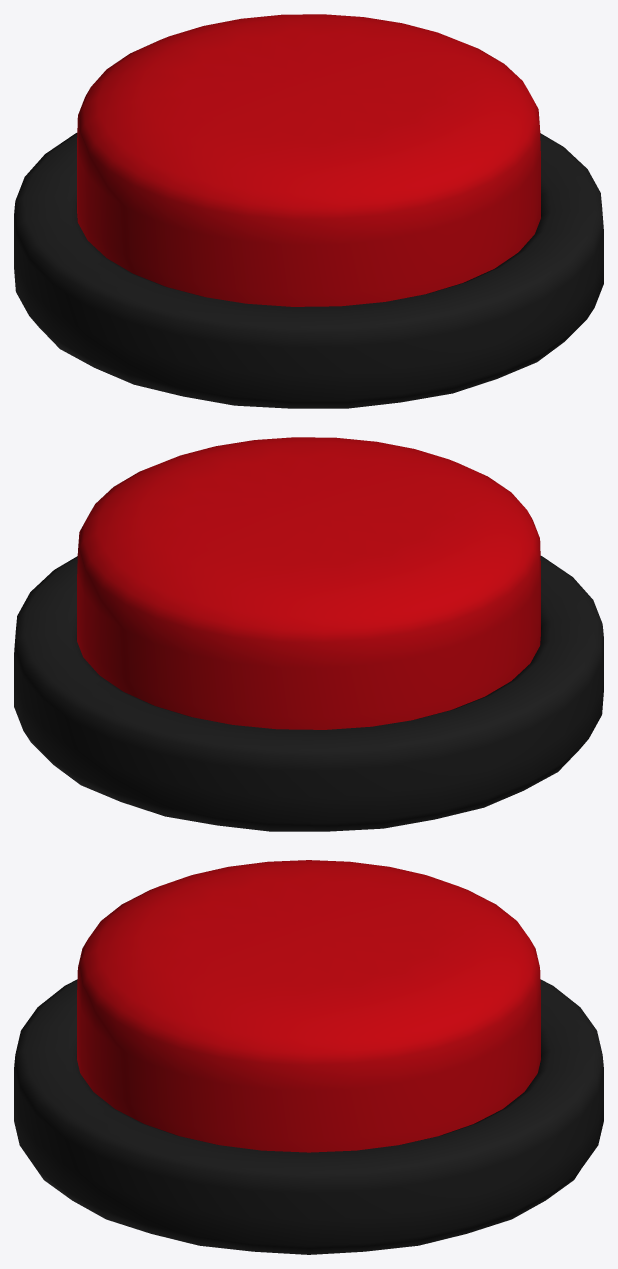
File: button-low.fbx
3 views of the same model, one above another, from view 1: azimuth 30°, elevation 25°; view 2: azimuth 150°, elevation 25°; view 3: azimuth 270°, elevation 25° (orthographic).
Visible parts, largest first — view 1: Button, Base; view 2: Button, Base; view 3: Button, Base.
Boxes of the visible parts, <box> form: Button: <box>77,14,540,306</box>; Base: <box>14,133,603,408</box>; Button: <box>77,437,540,729</box>; Base: <box>14,556,603,831</box>; Button: <box>77,860,540,1152</box>; Base: <box>14,979,603,1254</box>.
Size of the model in its own units: 19.47 by 7.56 by 19.47.
